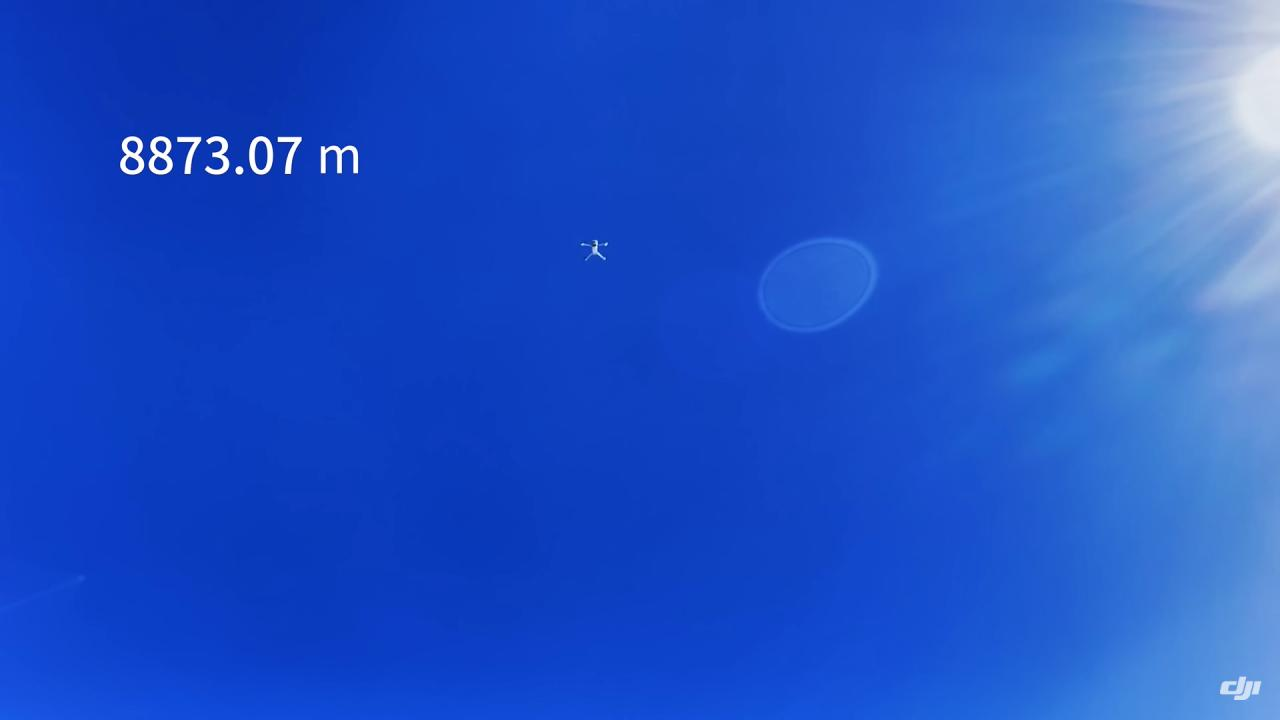Drone: (568, 228, 620, 272)
